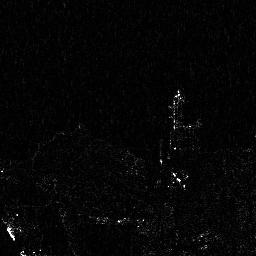ship: (170, 89, 184, 131)
